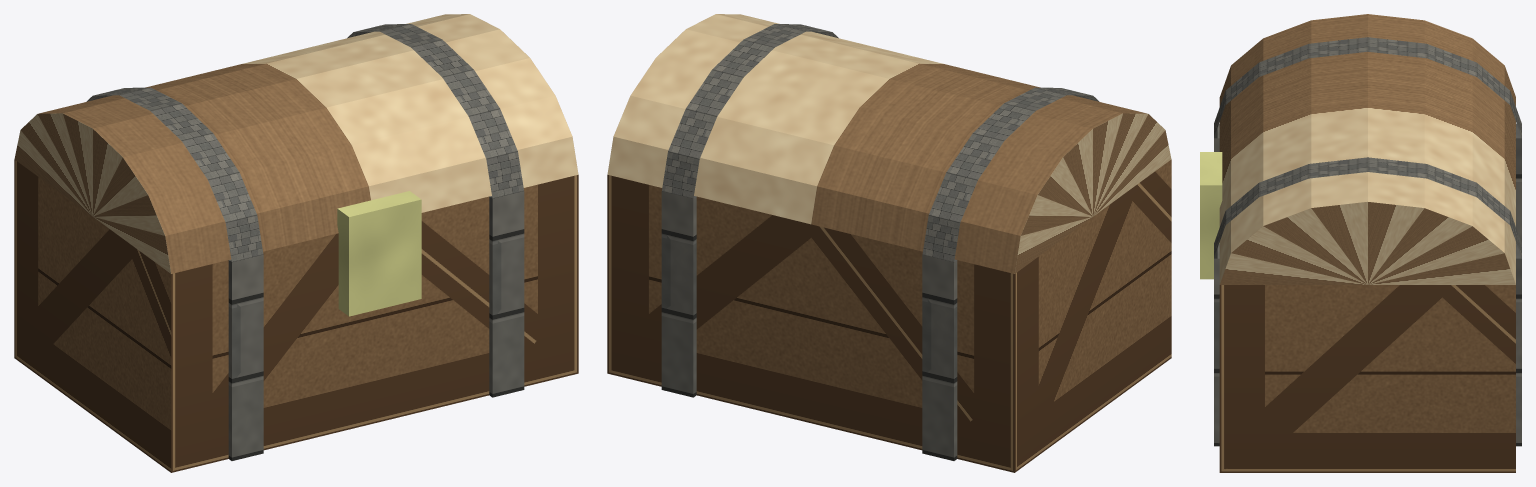
Rendered from chest_s.glb.
The picture shows the model from 3 angles, left to right: view 1: azimuth 30°, elevation 25°; view 2: azimuth 150°, elevation 25°; view 3: azimuth 270°, elevation 25°; orthographic projection. The views are drawn at different scales.
Parts seen in each view (by area): view 1: chest_s; view 2: chest_s; view 3: chest_s.
Part boxes in pixels (x1,y1,x2,y2): chest_s: (14, 14, 578, 472); chest_s: (607, 14, 1171, 472); chest_s: (1200, 14, 1521, 472).
Bounding box in the file's own units: 0.9 × 0.6134 × 0.652.
Materials: 4 (4 with a texture image).
